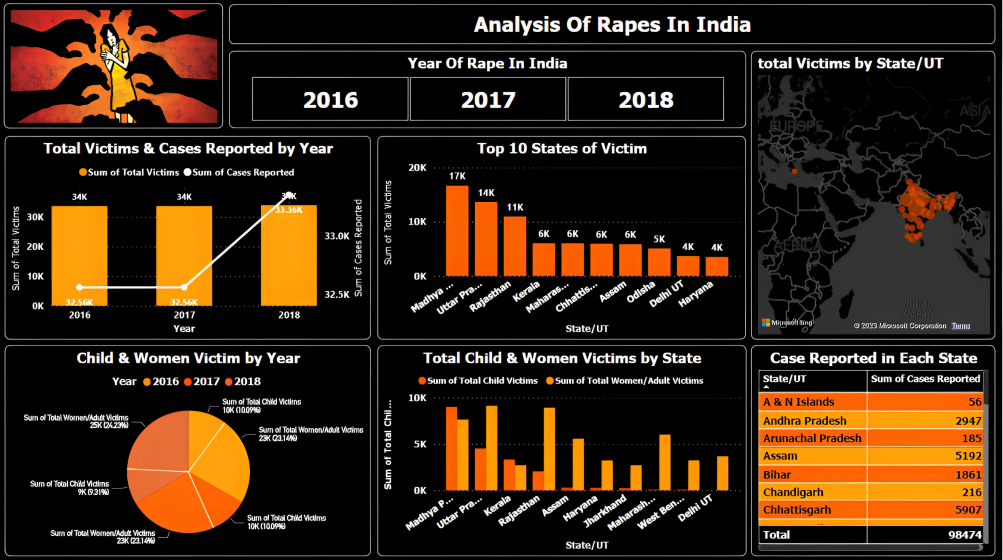

Layout of this report page (visuals, bound fields, positions):
{"tool":"powerbi","page":{"name":"Page 1","canvas":[1280,720],"ordinal":0},"visuals":[{"type":"image","box":[5,6.2,280.1,159.9],"z":0},{"type":"textbox","box":[292.5,7.4,979,50.8],"z":1000},{"type":"slicer","title":"Year Of Rape In India  ","fields":{"Values":["2016 - 2018 Victims of Rape.Year"]},"box":[292.5,67.5,660,98.8],"z":2000},{"type":"map","title":" total Victims by State/UT","fields":{"Category":["2016 - 2018 Victims of Rape.State/UT"],"Size":["Sum(2016 - 2018 Victims of Rape.Total Victims)"]},"box":[959.1,66.9,312.3,369.3],"z":3000},{"type":"lineClusteredColumnComboChart","title":"Total Victims & Cases Reported by Year","fields":{"Category":["2016 - 2018 Victims of Rape.Year"],"Y":["Sum(2016 - 2018 Victims of Rape.Total Victims)"],"Y2":["Sum(2016 - 2018 Victims of Rape.Cases Reported)"]},"box":[6.2,176,467.2,260.2],"z":4000},{"type":"columnChart","title":"Top 10 States of Victim","fields":{"Category":["2016 - 2018 Victims of Rape.State/UT"],"Y":["Sum(2016 - 2018 Victims of Rape.Total Victims)"]},"box":[482.1,176,470.9,260.2],"z":5000},{"type":"pieChart","title":"Child & Women Victim by Year","fields":{"Category":["2016 - 2018 Victims of Rape.Year"],"Y":["Sum(2016 - 2018 Victims of Rape.Total Child Victims  )","Sum(2016 - 2018 Victims of Rape.Total Women/Adult Victims)"]},"box":[6.2,443.8,467.5,270],"z":6000},{"type":"tableEx","title":"Case Reported in Each State","fields":{"Values":["2016 - 2018 Victims of Rape.State/UT","Sum(2016 - 2018 Victims of Rape.Cases Reported)"]},"box":[958.8,443.8,312.5,270],"z":7000},{"type":"clusteredColumnChart","title":"Total Child & Women Victims by State","fields":{"Y":["Sum(2016 - 2018 Victims of Rape.Total Child Victims  )","Sum(2016 - 2018 Victims of Rape.Total Women/Adult Victims)"],"Category":["2016 - 2018 Victims of Rape.State/UT"]},"box":[482,444,471,270],"z":8000}]}

Visuals, with their boxes in screenshot pixels (x1, y1, x2, y2), scaled from the page's 1280x720 canvas onto the 1003x560 screenshot:
image: x1=4, y1=5, x2=223, y2=129
textbox: x1=229, y1=6, x2=996, y2=45
"Year Of Rape In India  " slicer: x1=229, y1=52, x2=746, y2=129
" total Victims by State/UT" map: x1=752, y1=52, x2=996, y2=339
"Total Victims & Cases Reported by Year" lineClusteredColumnComboChart: x1=5, y1=137, x2=371, y2=339
"Top 10 States of Victim" columnChart: x1=378, y1=137, x2=747, y2=339
"Child & Women Victim by Year" pieChart: x1=5, y1=345, x2=371, y2=555
"Case Reported in Each State" tableEx: x1=751, y1=345, x2=996, y2=555
"Total Child & Women Victims by State" clusteredColumnChart: x1=378, y1=345, x2=747, y2=555
